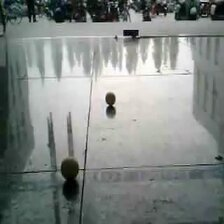w: (60, 157, 79, 181), (105, 91, 116, 106)
